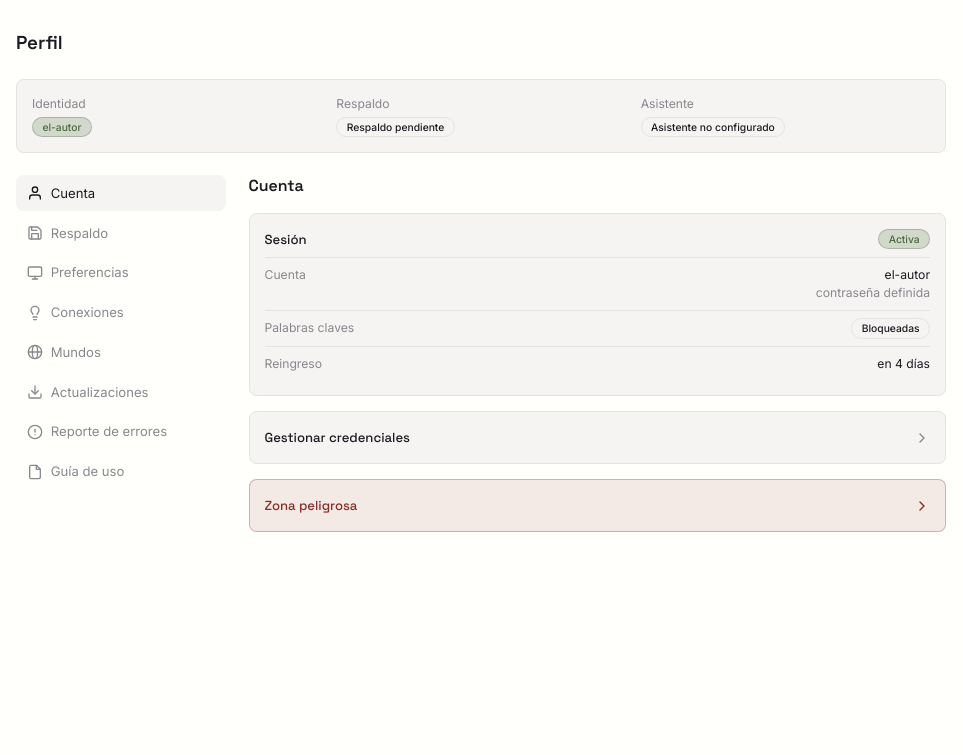
Test: ProfilePage account section (credentials mode) › collapses the sensitive zone with the destructive forms
The image size is (963, 755).
Expected: the heading "Sesión" is shown, [264,229,306,250]
Expected: the heading "Retirar contraseña" is not shown
Click the button "Zona peligrosa": (311, 506) [264,495,930,516]
(page scrolled)
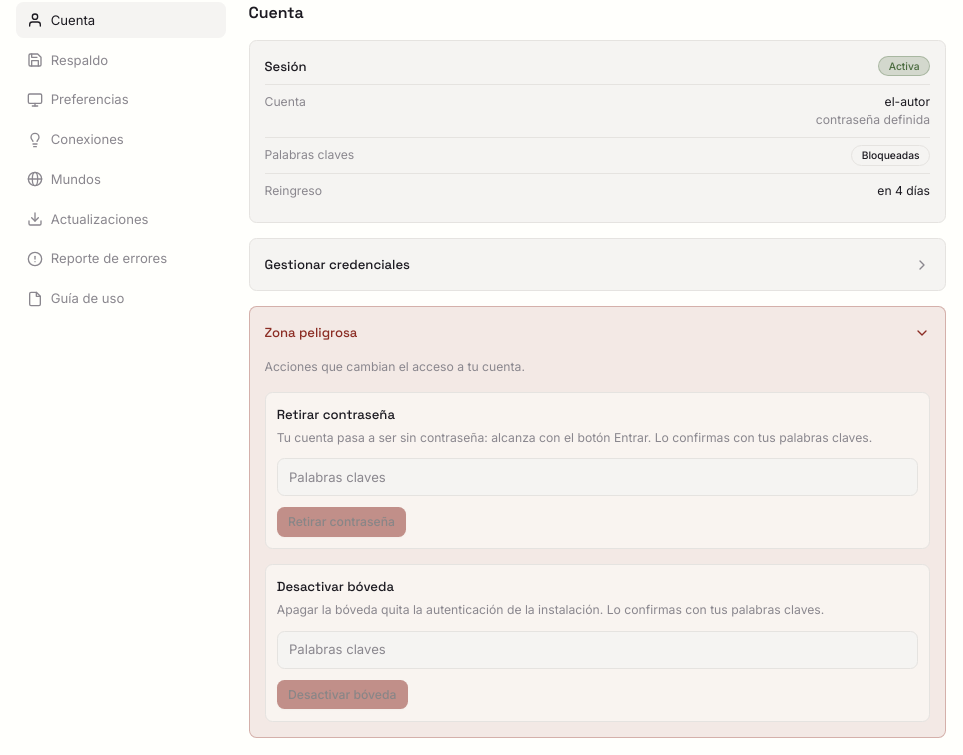
Expected: the heading "Retirar contraseña" is shown, [277,406,395,423]
Expected: the heading "Desactivar bóveda" is shown, [277,578,394,595]
